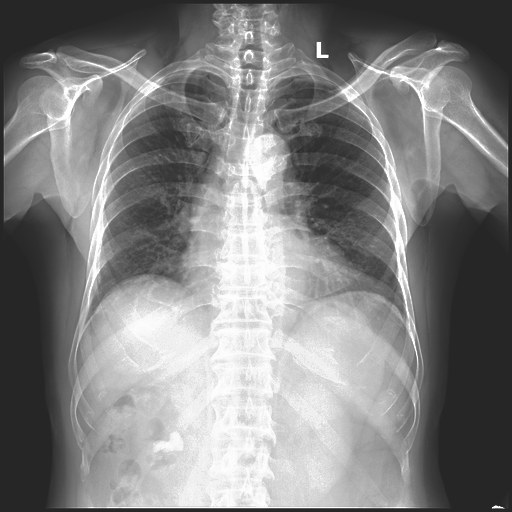Calcification: (154, 67, 224, 84), (287, 70, 333, 83)
Consolidation: (245, 132, 292, 177)
Nodule/Mass: (178, 244, 353, 298)
